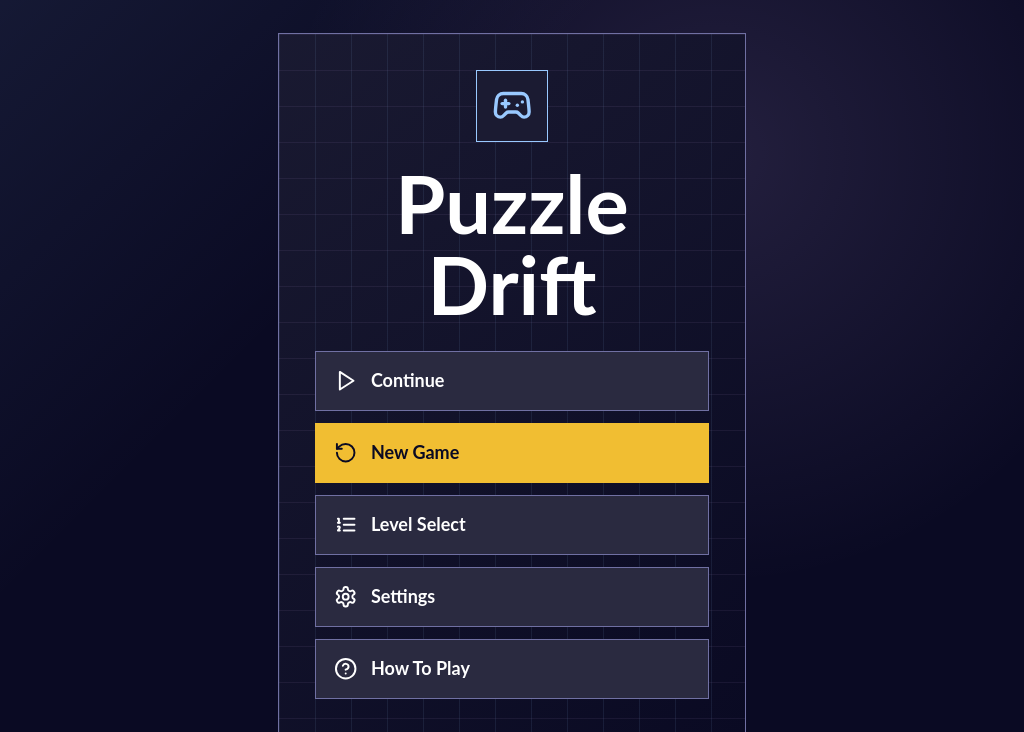
App › highlights the most recently played incomplete level when continuing a run
What coordinates should you click on to do the following:
click the button "Level Select"
I would click on:
 (418, 524)
Its box is [315, 495, 709, 554].
(page scrolled)
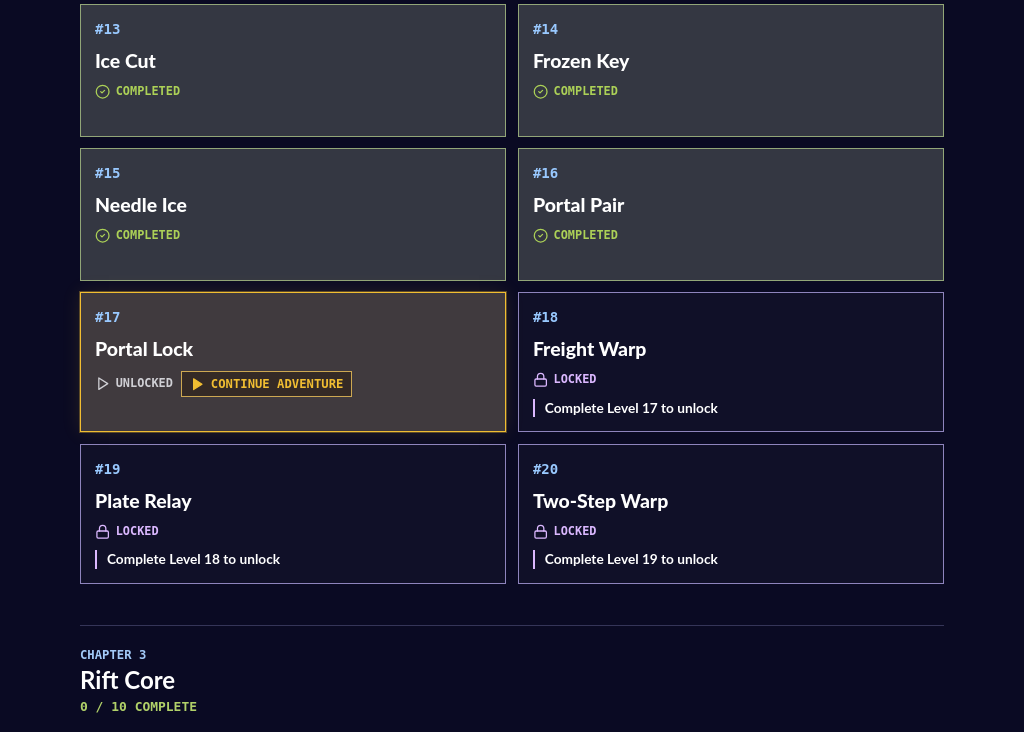
Now the text "Continue Adventure" is shown, box [181, 371, 352, 397]
